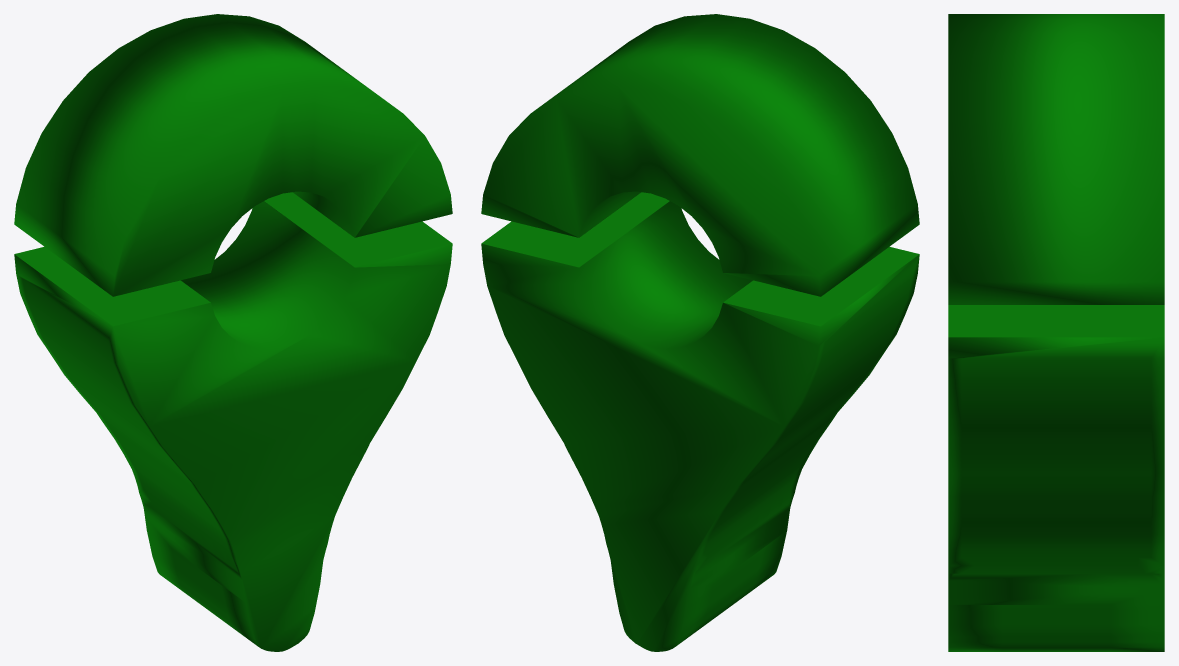
The model's file is map_marker.glb.
The picture shows the model from 3 angles, left to right: view 1: azimuth 30°, elevation 25°; view 2: azimuth 150°, elevation 25°; view 3: azimuth 270°, elevation 25°; orthographic projection. The views are drawn at different scales.
Visible parts, largest first — view 1: Cylinder; view 2: Cylinder; view 3: Cylinder.
Boxes of the visible parts, x1,y1,x2,y2 form: Cylinder: [14, 14, 452, 651]; Cylinder: [481, 14, 919, 651]; Cylinder: [948, 14, 1164, 651].
Bounding box in the file's own units: 1.98 × 3.13 × 1.
